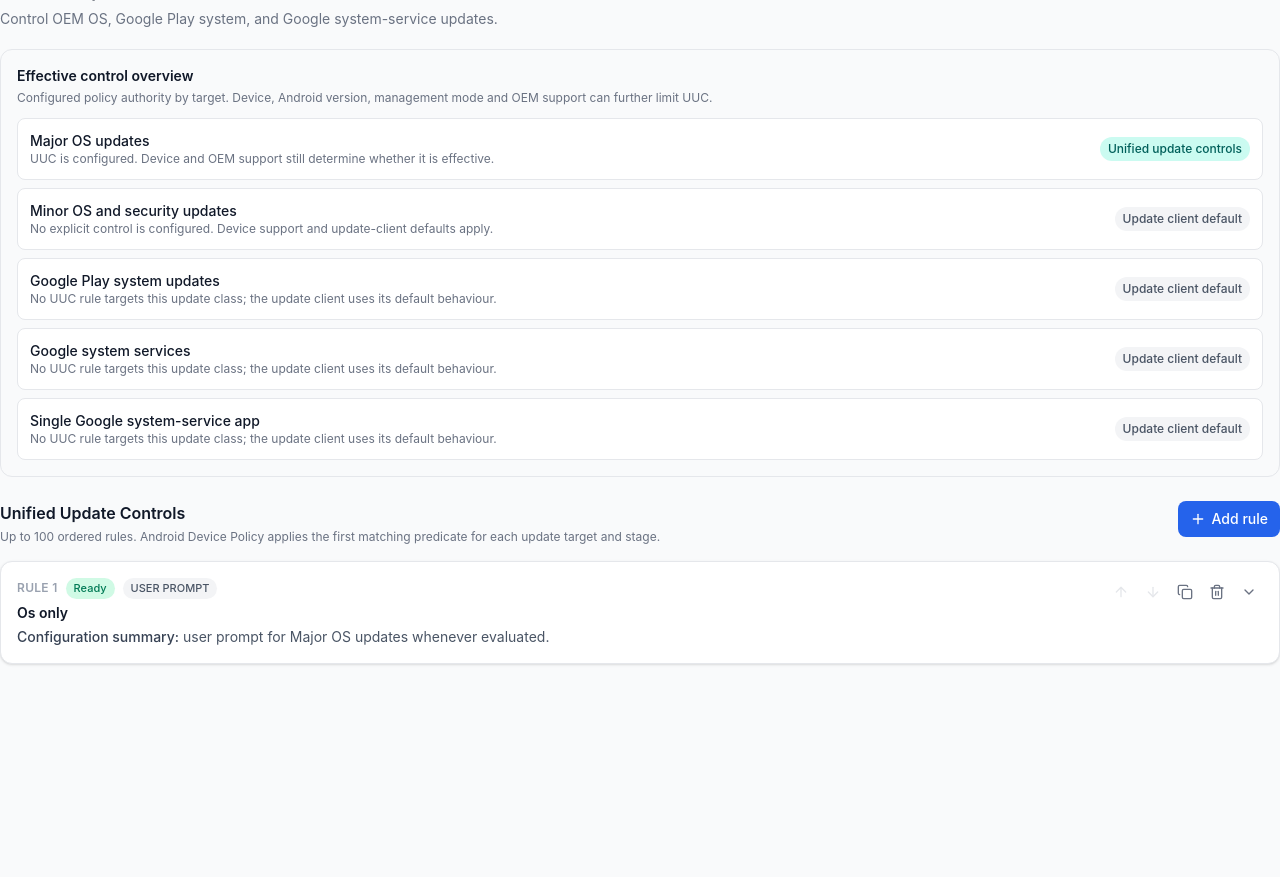
Test: PlatformUpdatesSection › enables OS-only inputs for an OS-only rule
Click the button named "Expand rule 1": point(1249, 592) left=1235, top=578, right=1263, bottom=606
(page scrolled)
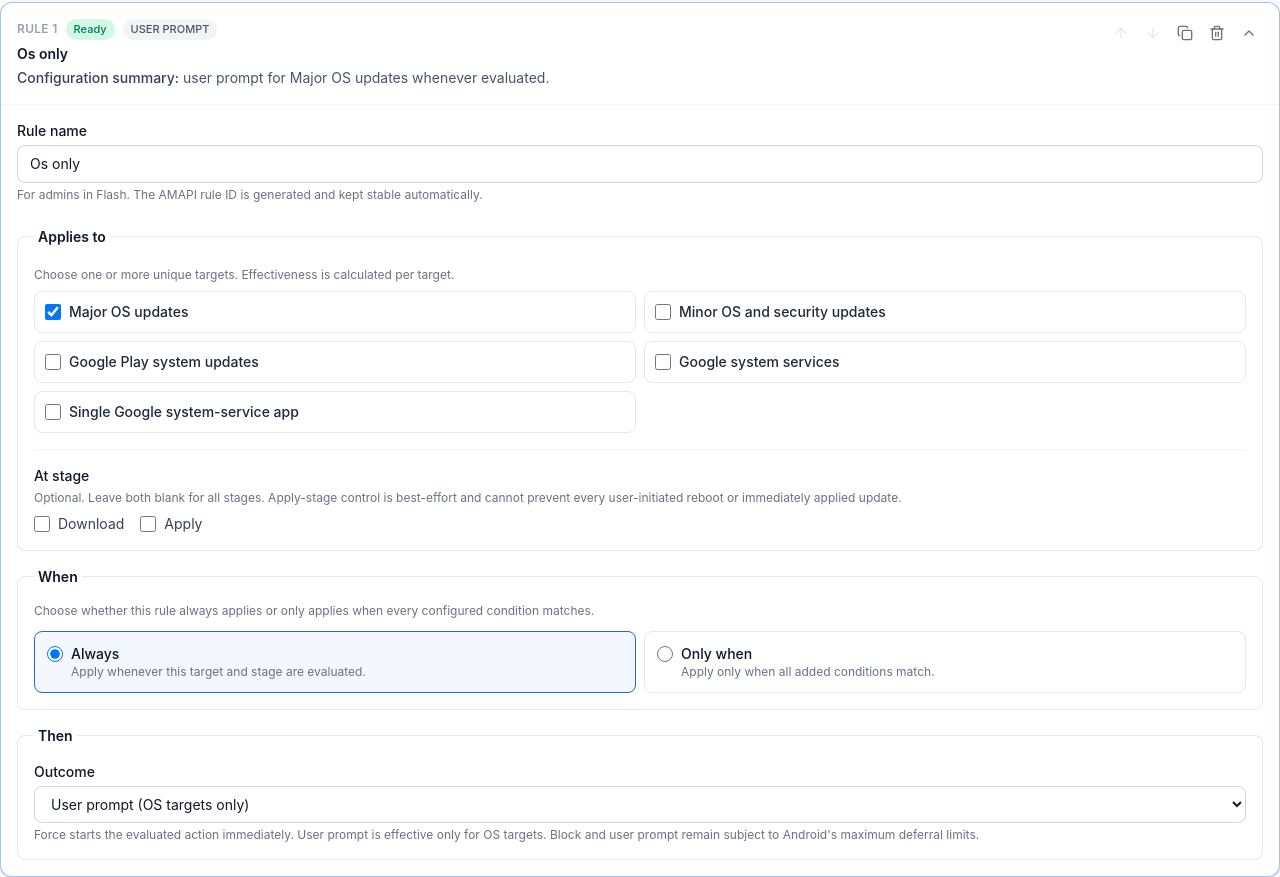
Expected: the checkbox labelled "Download" is enabled, left=34, top=516, right=50, bottom=532
Expected: the checkbox labelled "Apply" is enabled, left=140, top=516, right=156, bottom=532
Expected: the text "When" is shown, left=38, top=568, right=78, bottom=584
